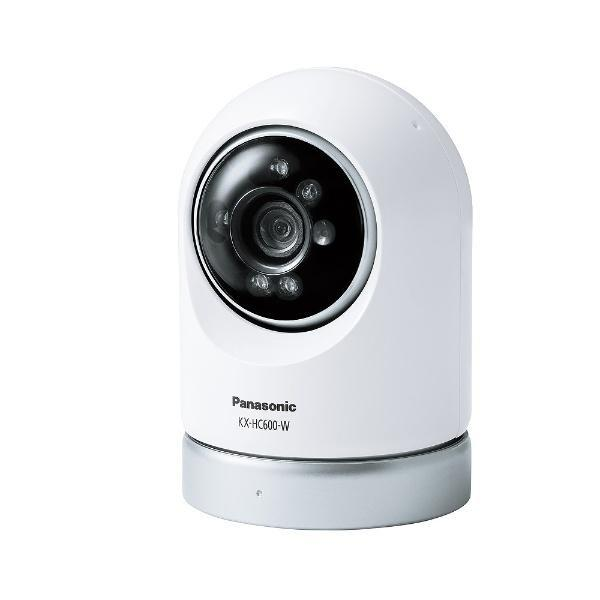maru: (177, 63, 468, 536)
